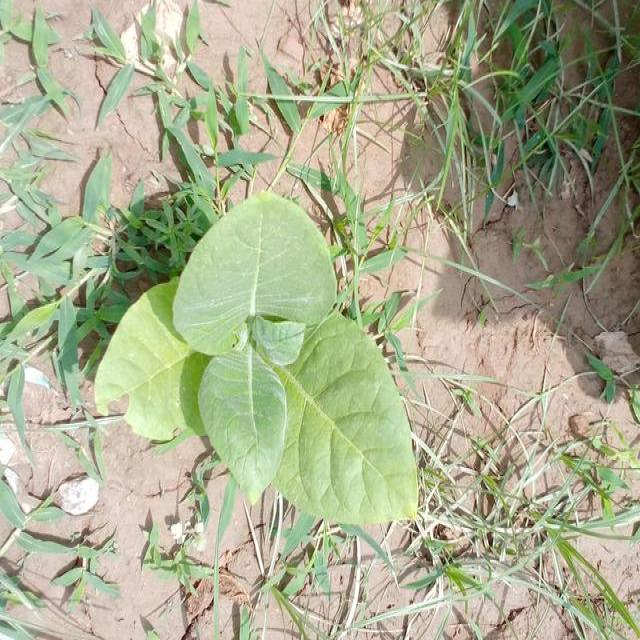crop: (98, 191, 420, 524)
